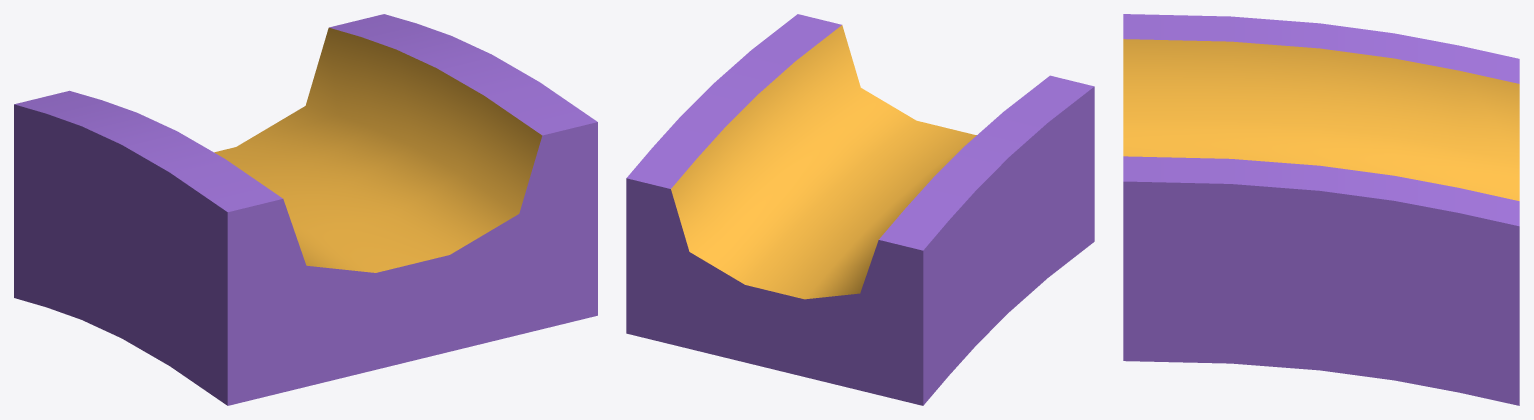
Rendered from ramp-end-a.glb.
3 renders of one model, left to right at view 1: azimuth 30°, elevation 25°; view 2: azimuth 150°, elevation 25°; view 3: azimuth 270°, elevation 25°, orthographic. The views are drawn at different scales.
Visible parts, largest first — view 1: ramp-end-a; view 2: ramp-end-a; view 3: ramp-end-a.
Part boxes in pixels (bbox=[...]): ramp-end-a: bbox=[14, 14, 597, 405]; ramp-end-a: bbox=[626, 14, 1094, 405]; ramp-end-a: bbox=[1123, 14, 1519, 405].
Bounding box in the file's own units: 1 × 0.625 × 1.
Materials: 1 (1 with a texture image).
